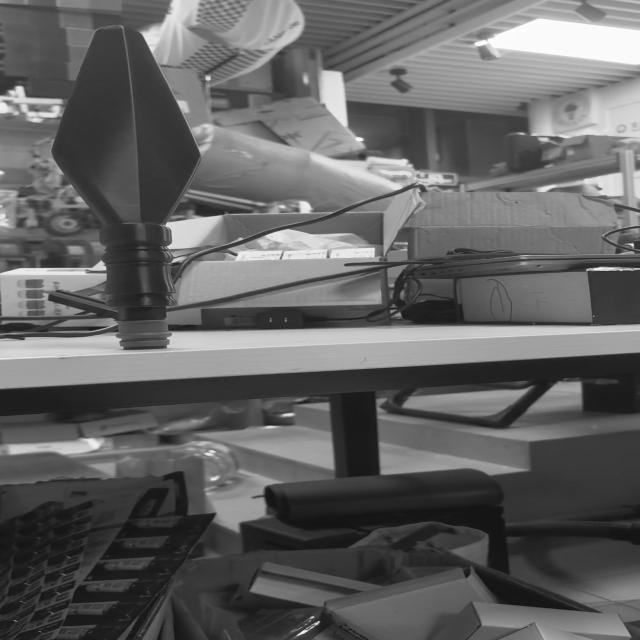base: (112, 318, 178, 353)
